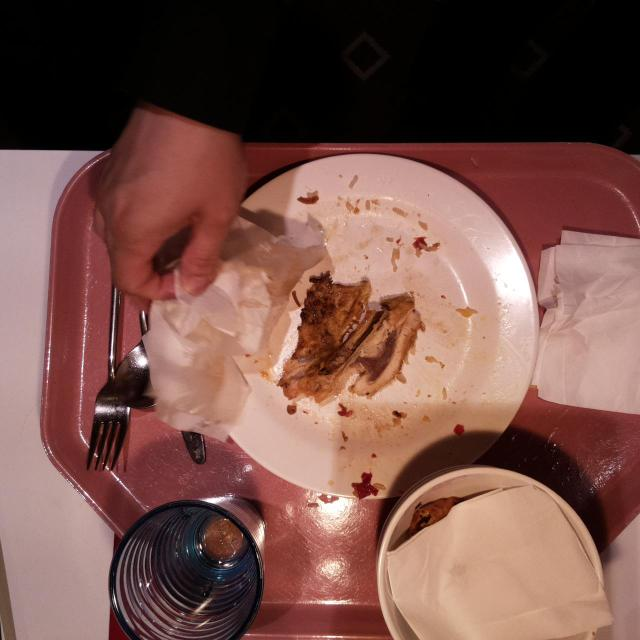Bone: (278, 273, 418, 401)
